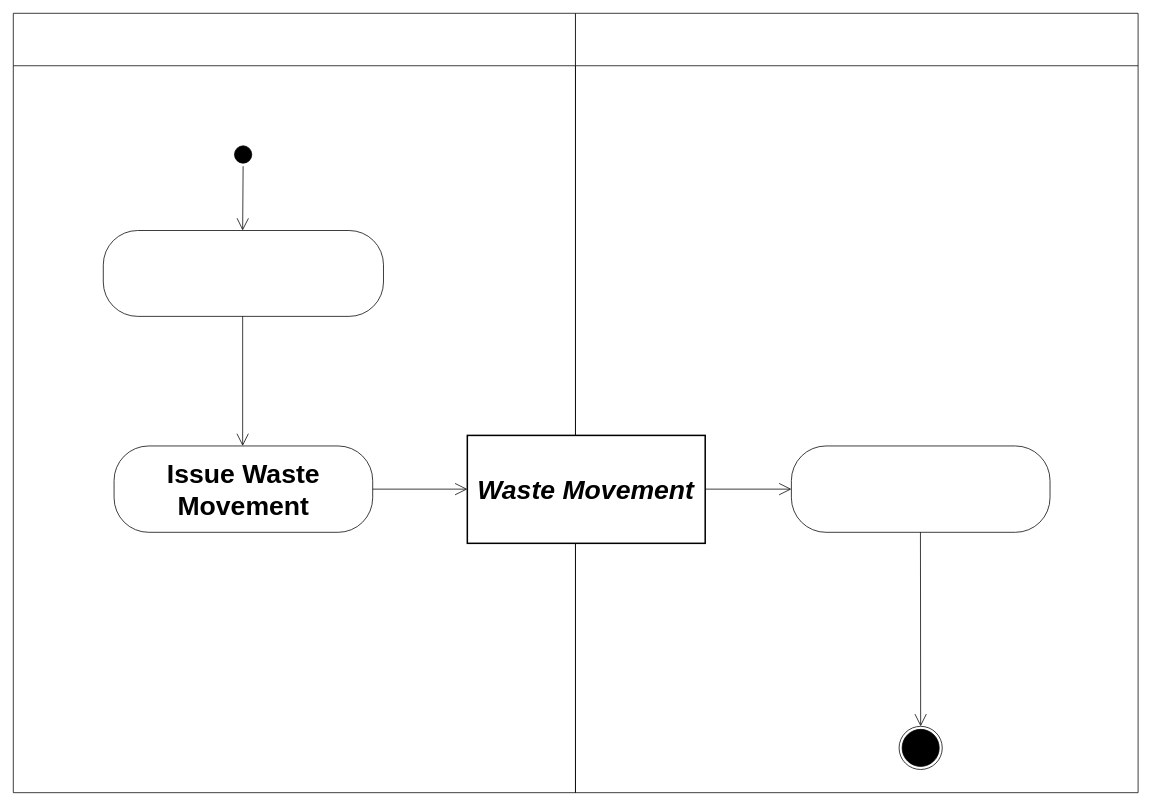
Image size: 1151x806. Some labels were removed from this diagram. The shapes that lost their labels are listed below. From the top down, each one's box as (x1, y1, x2, y2) in pixels, then its label:
(103, 230, 383, 316): Prepare partial waste movement
(791, 445, 1050, 532): Receive Waste Movement
